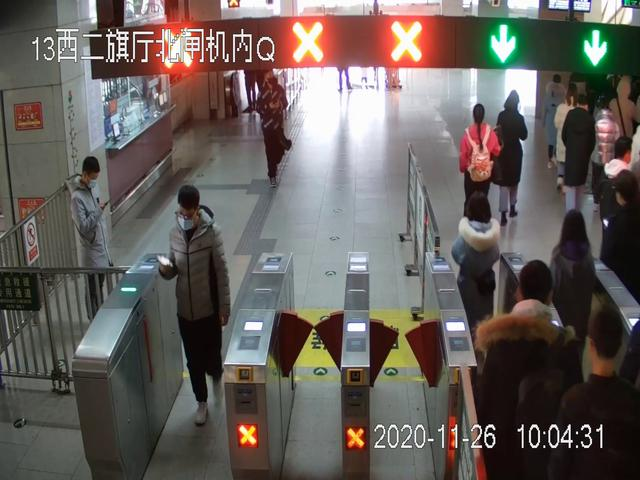person: (157, 181, 229, 426), (552, 210, 599, 426), (67, 157, 116, 331), (451, 193, 500, 362), (487, 89, 529, 227), (459, 103, 500, 238), (560, 93, 599, 225), (256, 70, 293, 189), (591, 103, 619, 202), (543, 73, 568, 168)
